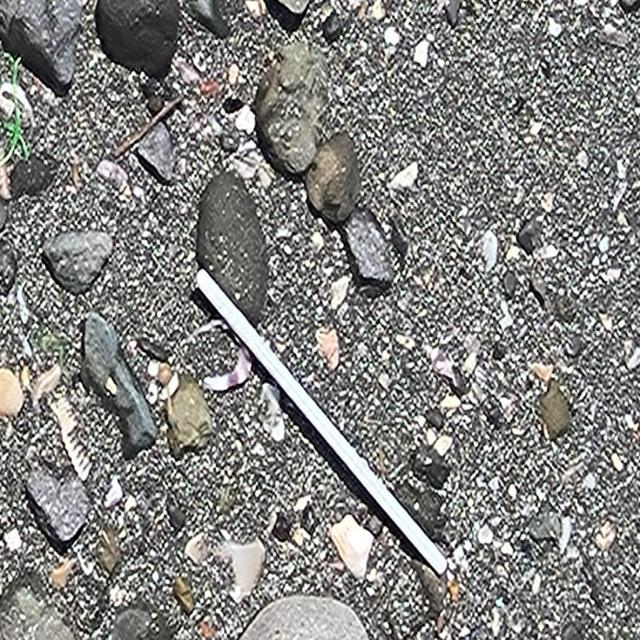plastic_waste: (196, 266, 451, 579)
